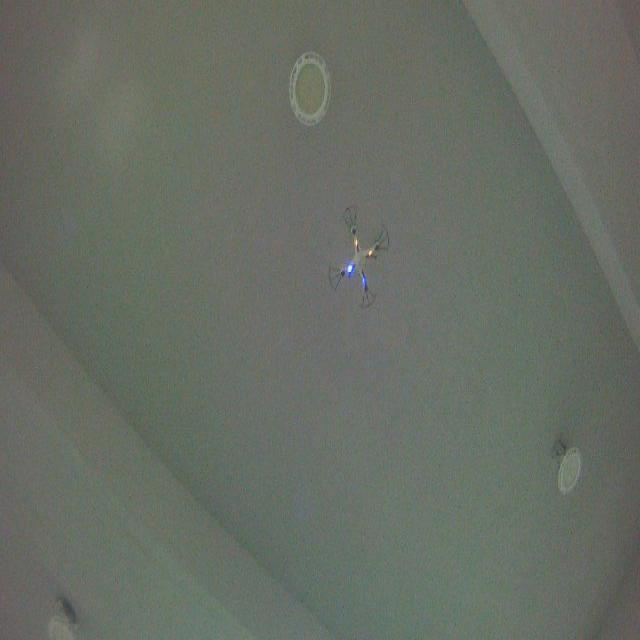drone: (325, 201, 392, 312)
